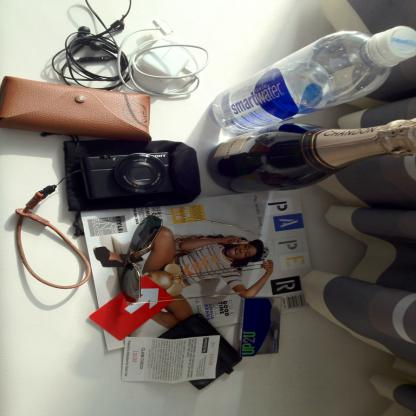Camera: (64, 133, 196, 213)
